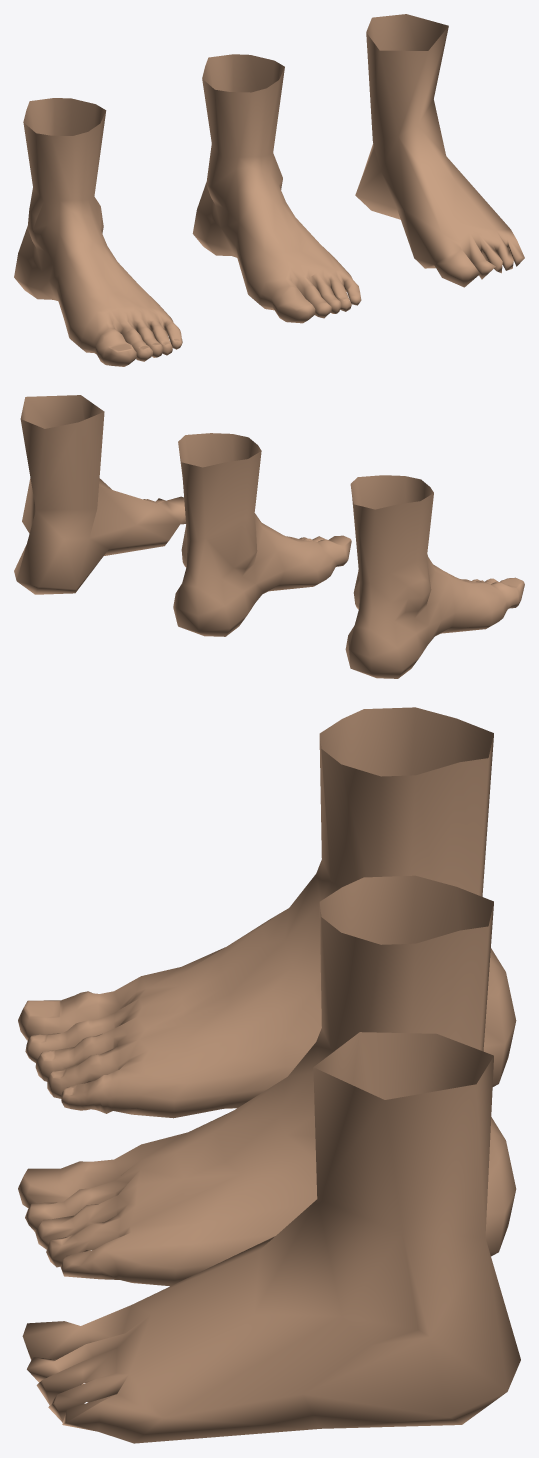
The model's file is foot-mesh-LOD.glb.
The picture shows the model from 3 angles, top to bottom: view 1: azimuth 30°, elevation 25°; view 2: azimuth 150°, elevation 25°; view 3: azimuth 270°, elevation 25°; orthographic projection. The views are drawn at different scales.
Parts seen in each view (by area): view 1: Cube;hires, Cube;medres, Cube;lowres; view 2: Cube;hires, Cube;medres, Cube;lowres; view 3: Cube;lowres, Cube;hires, Cube;medres.
Part boxes in pixels (bbox=[...]): Cube;hires: bbox=[14, 98, 182, 366]; Cube;medres: bbox=[192, 54, 361, 323]; Cube;lowres: bbox=[355, 14, 524, 287]; Cube;hires: bbox=[345, 475, 524, 678]; Cube;medres: bbox=[173, 433, 351, 636]; Cube;lowres: bbox=[14, 395, 185, 594]; Cube;lowres: bbox=[22, 1032, 520, 1443]; Cube;hires: bbox=[18, 707, 516, 1118]; Cube;medres: bbox=[18, 875, 516, 1286].
Bounding box in the file's own units: 1.87 × 0.752 × 0.9676.
